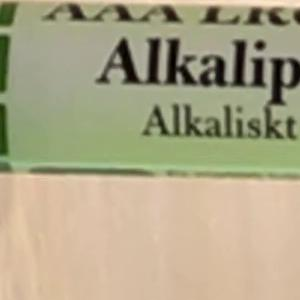ALK: (86, 27, 172, 95)
